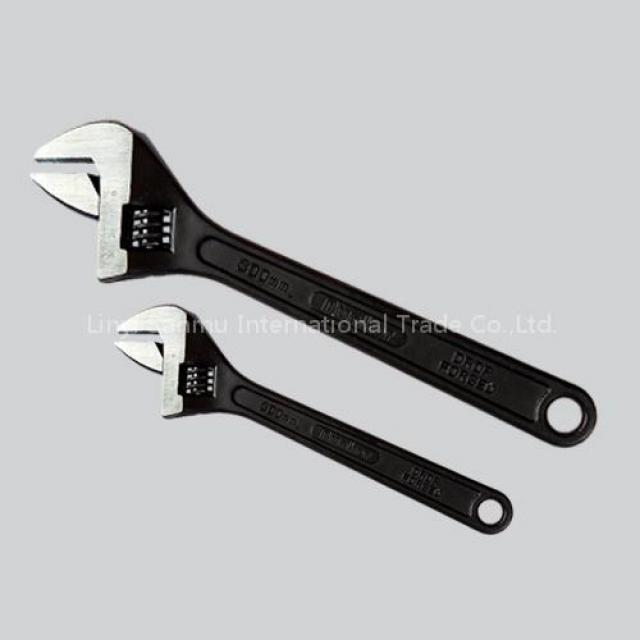wrench: (23, 113, 604, 450), (107, 297, 519, 538)
